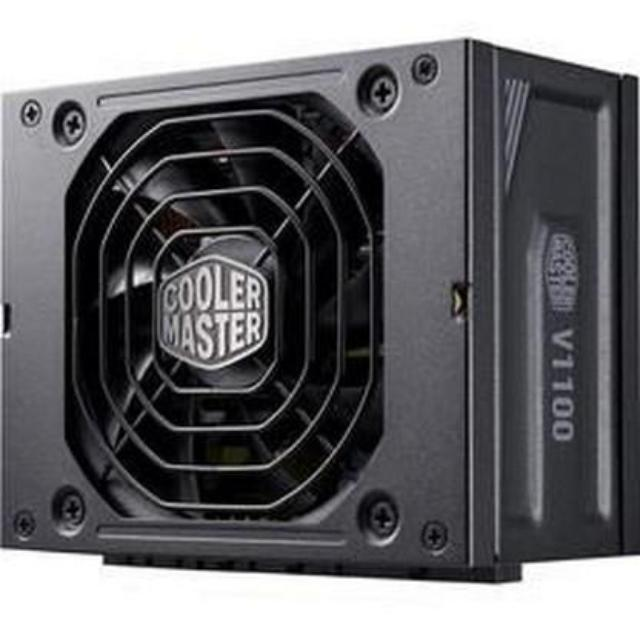PSU: (0, 30, 640, 592)
